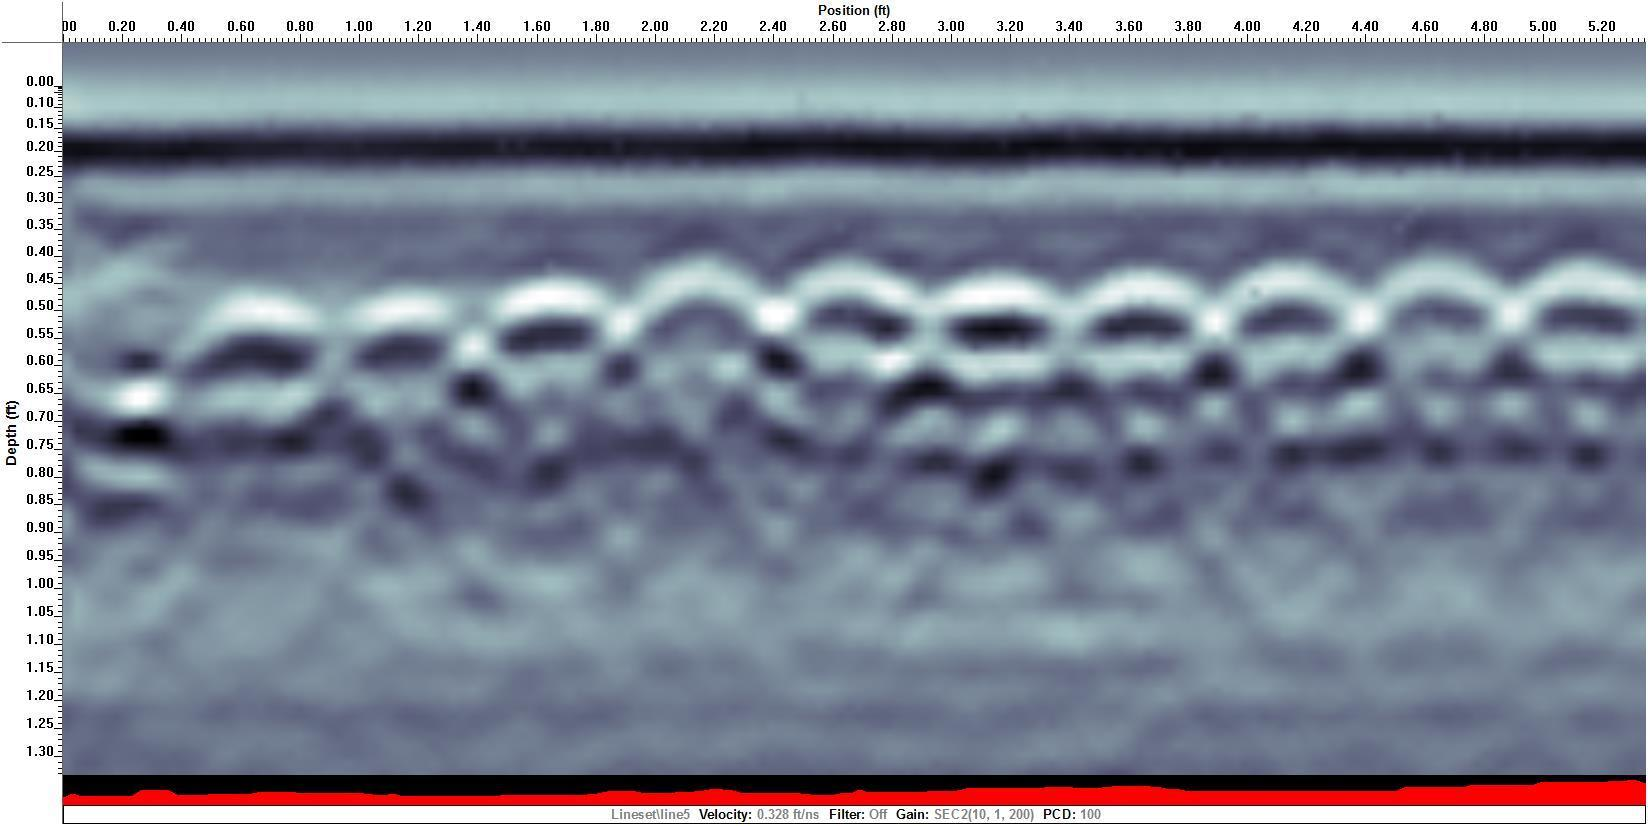hyperbola: (115, 282, 422, 576), (236, 282, 543, 576), (397, 280, 704, 574), (532, 255, 839, 549), (834, 267, 1141, 560), (1111, 269, 1418, 563), (1341, 273, 1648, 567), (682, 255, 989, 549), (977, 267, 1284, 560), (1259, 245, 1566, 539)
